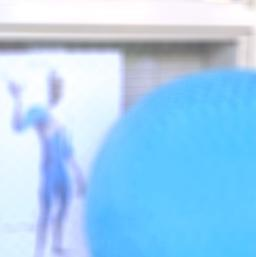algae: (83, 64, 256, 257)
